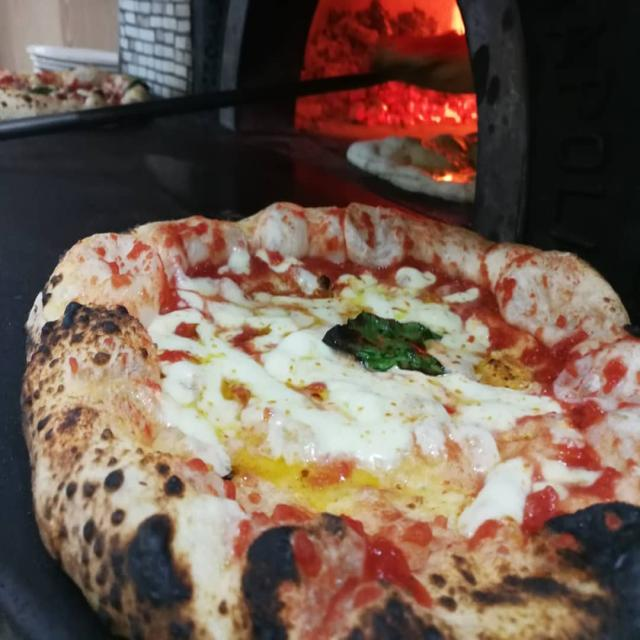basil: (321, 308, 452, 385)
pizza: (22, 204, 640, 638)
